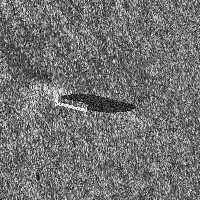mine: (54, 92, 138, 116)
